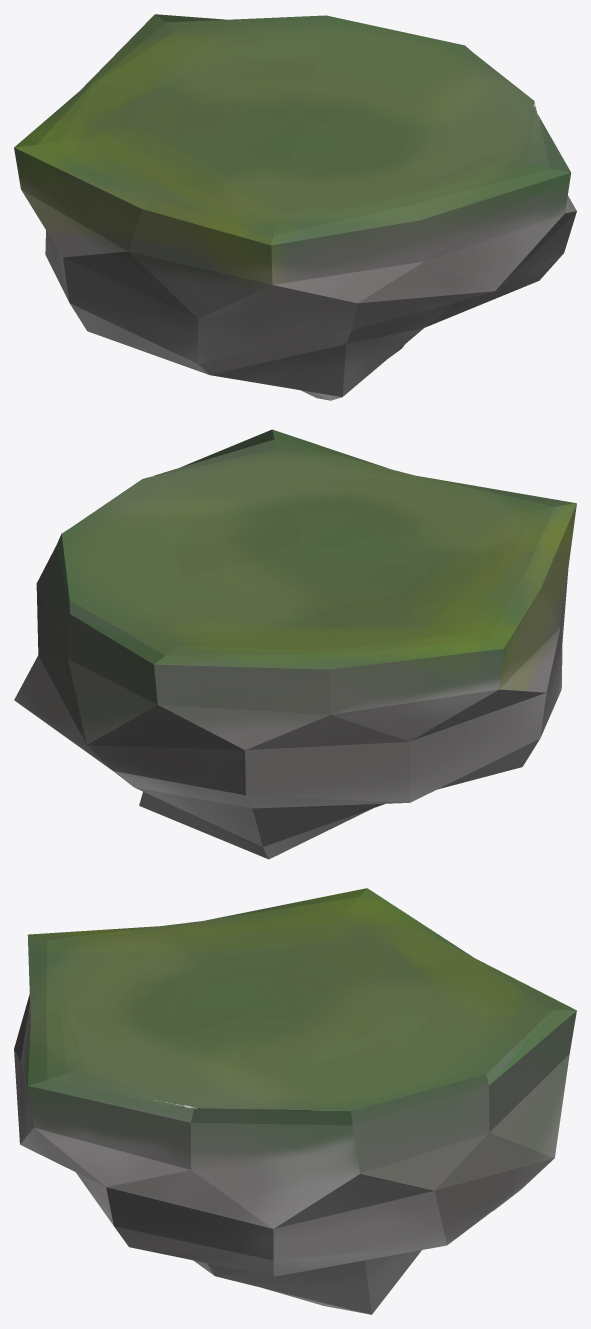
File: Island1.fbx
3 renders of one model, top to bottom at view 1: azimuth 30°, elevation 25°; view 2: azimuth 150°, elevation 25°; view 3: azimuth 270°, elevation 25°, orthographic. The views are drawn at different scales.
Parts seen in each view (by area): view 1: Icosphere; view 2: Icosphere; view 3: Icosphere.
Part boxes in pixels (box(x1,y1,x2,y2)): Icosphere: box(14, 14, 576, 400); Icosphere: box(14, 429, 576, 859); Icosphere: box(14, 888, 576, 1314).
Size of the model in its own units: 928 by 490 by 928.
1 material, 1 textured.
